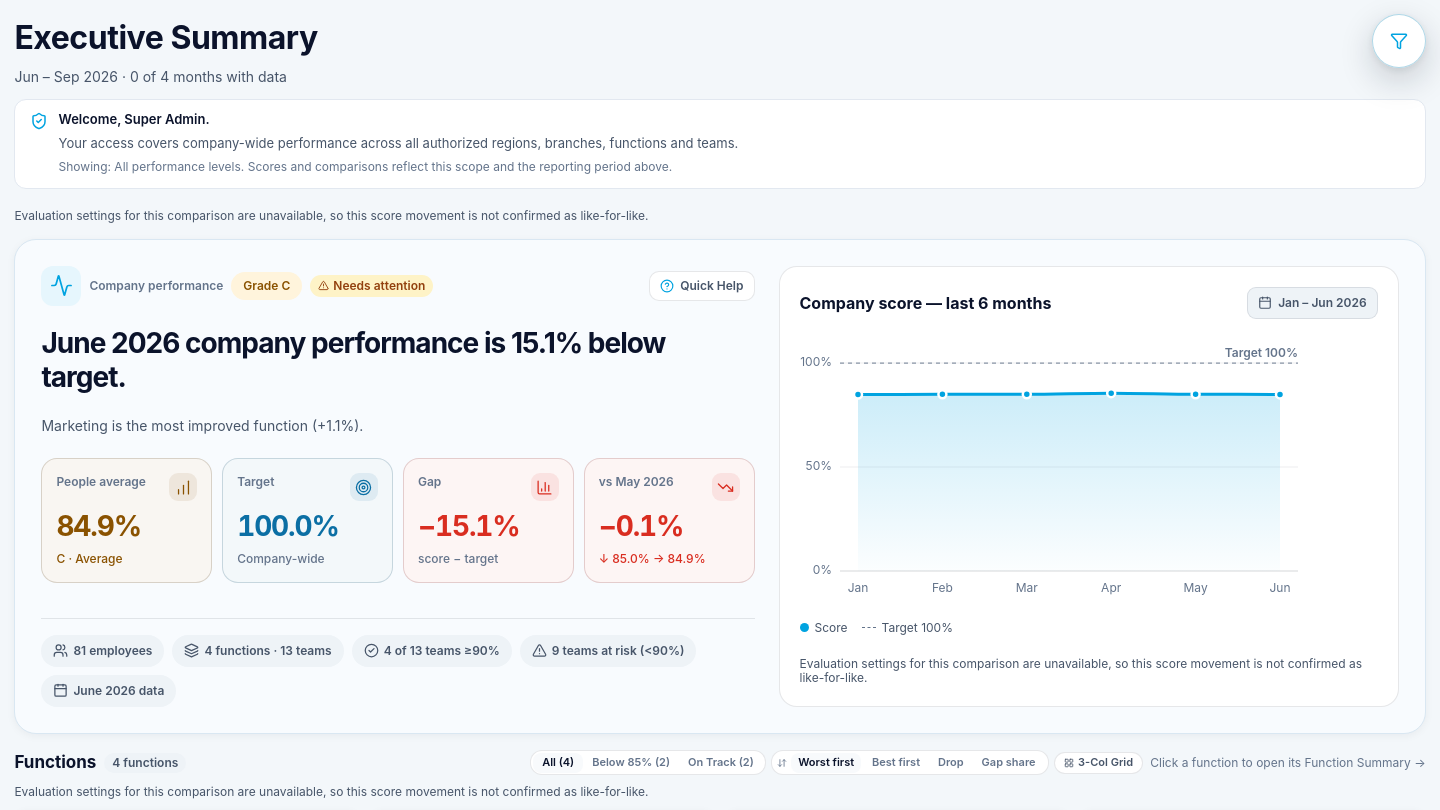
Test: DepartmentalSummaryView role routing › reads a range from the URL, passes it to the summary and shows the Range mode
Click the button named "Departmental filters".
click(1399, 41)  # box [1372,14,1426,68]
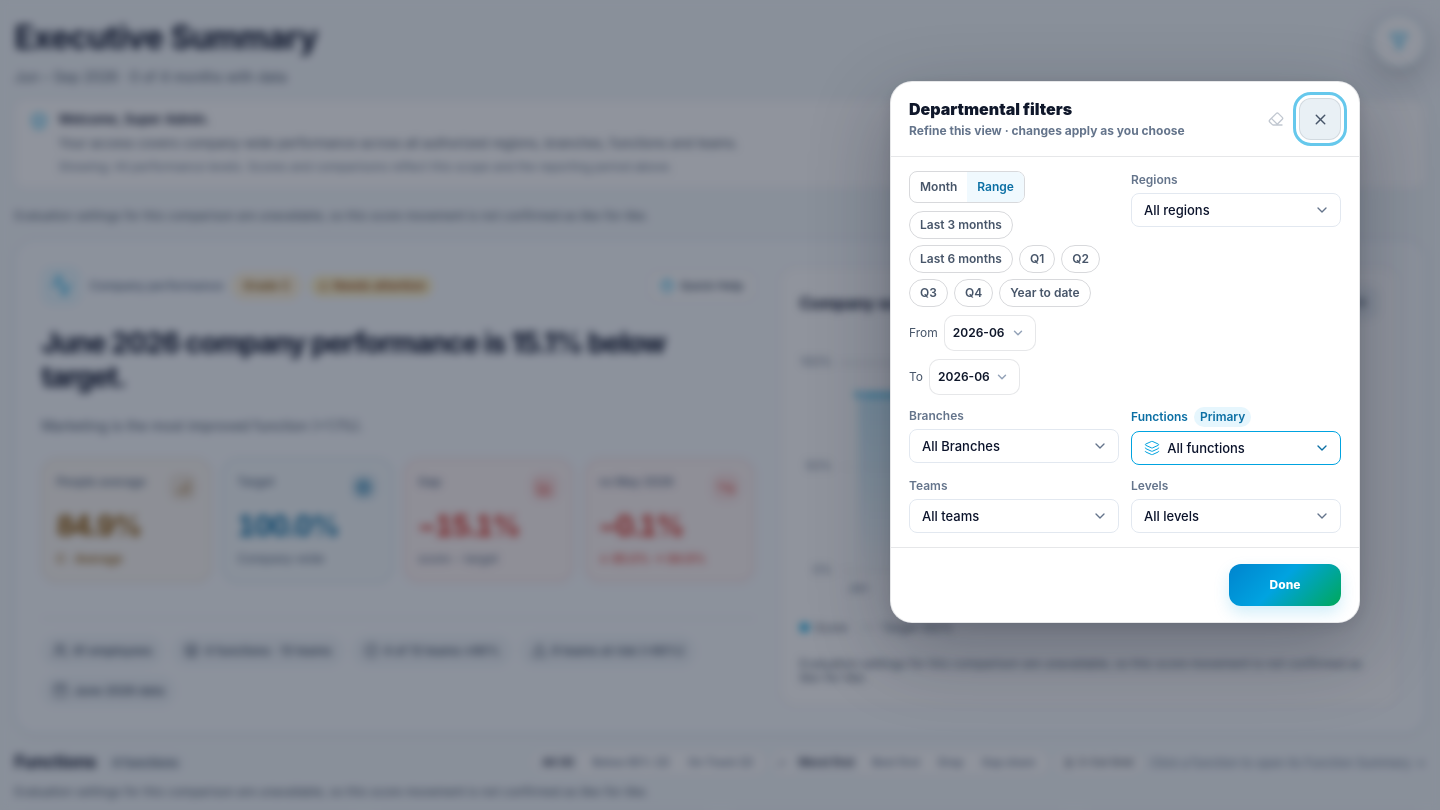
Expected: the button "Last 3 months" is shown, [909,211,1013,239]
